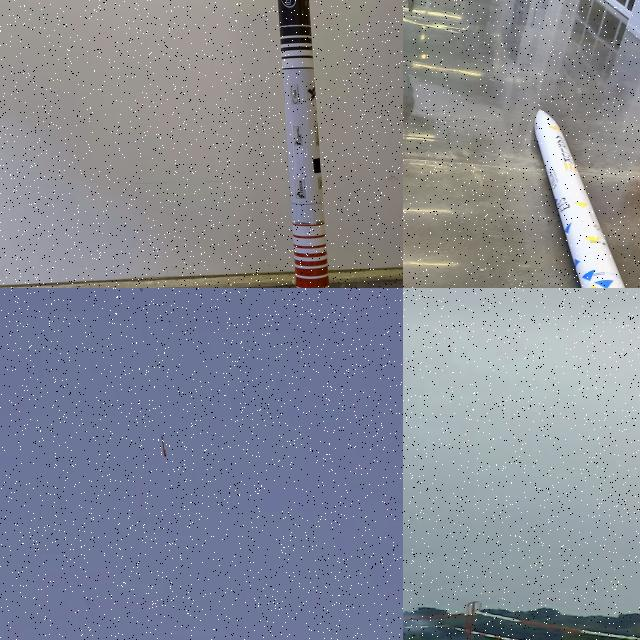Rocket: (534, 108, 625, 288), (277, 0, 329, 288), (161, 436, 167, 458)
